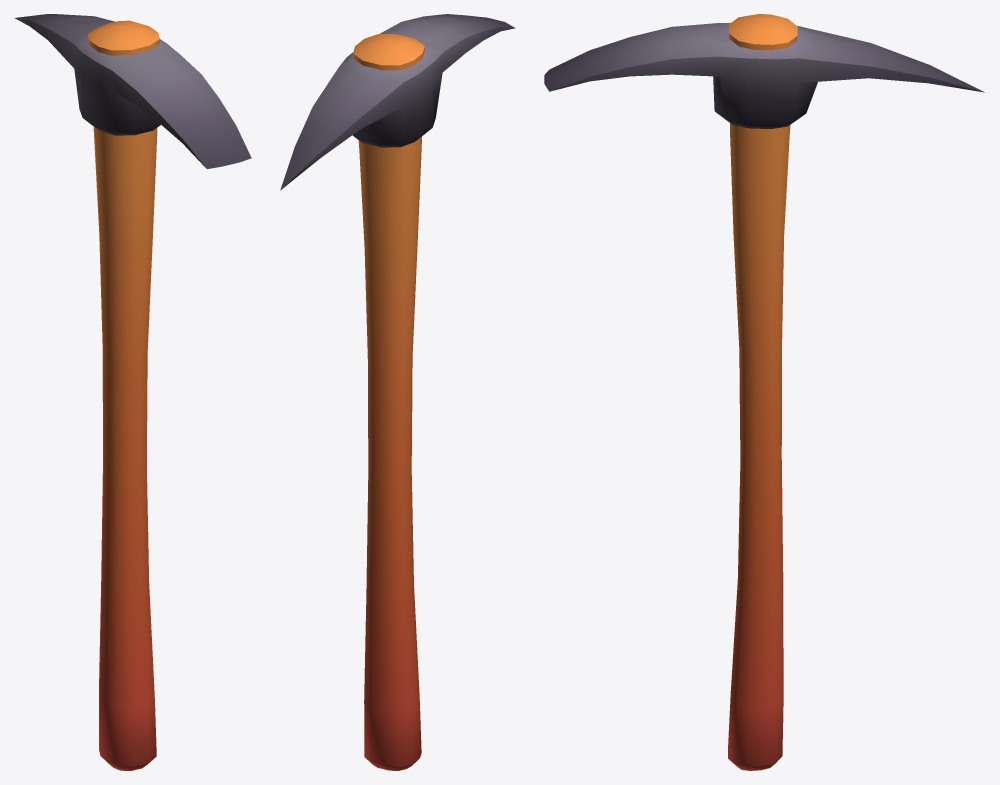
Rendered from Pickaxe.fbx.
3 renders of one model, left to right at view 1: azimuth 30°, elevation 25°; view 2: azimuth 150°, elevation 25°; view 3: azimuth 270°, elevation 25°, orthographic. The views are drawn at different scales.
Parts seen in each view (by area): view 1: Object01; view 2: Object01; view 3: Object01.
Part boxes in pixels (box(x1,y1,x2,y2)): Object01: box(14, 14, 251, 770); Object01: box(280, 14, 515, 770); Object01: box(544, 14, 984, 770).
Bounding box in the file's own units: 2.73 × 26.44 × 14.14.
